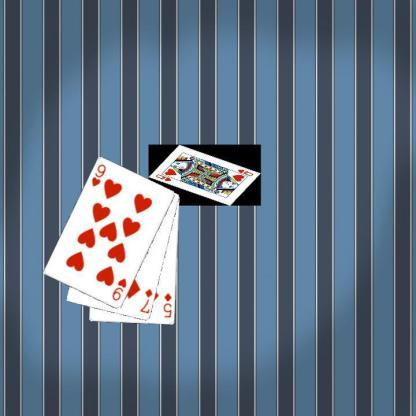5D: (161, 291, 173, 319)
7D: (138, 286, 154, 314)
9H: (89, 162, 107, 188), (110, 276, 127, 302)
